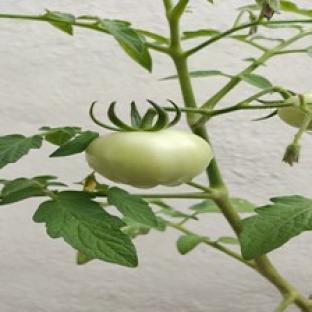Tomato: (87, 130, 213, 188), (278, 95, 305, 128)
